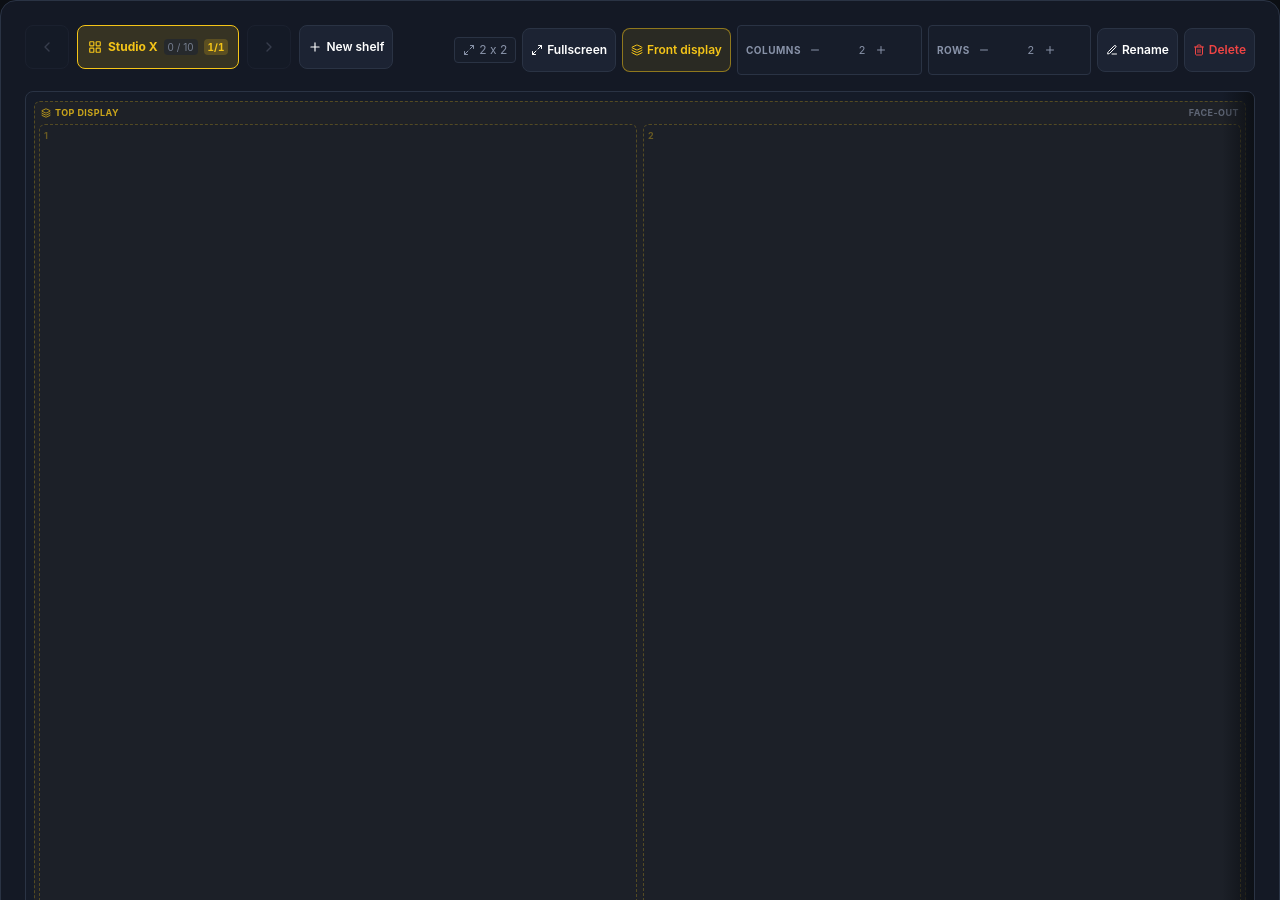
Test: ShelfLayoutEditor branches › toasts when shelf resize returns a malformed success payload
Click the button named "Add a row". click: point(1064, 50)
box: [1042,28,1086,72]
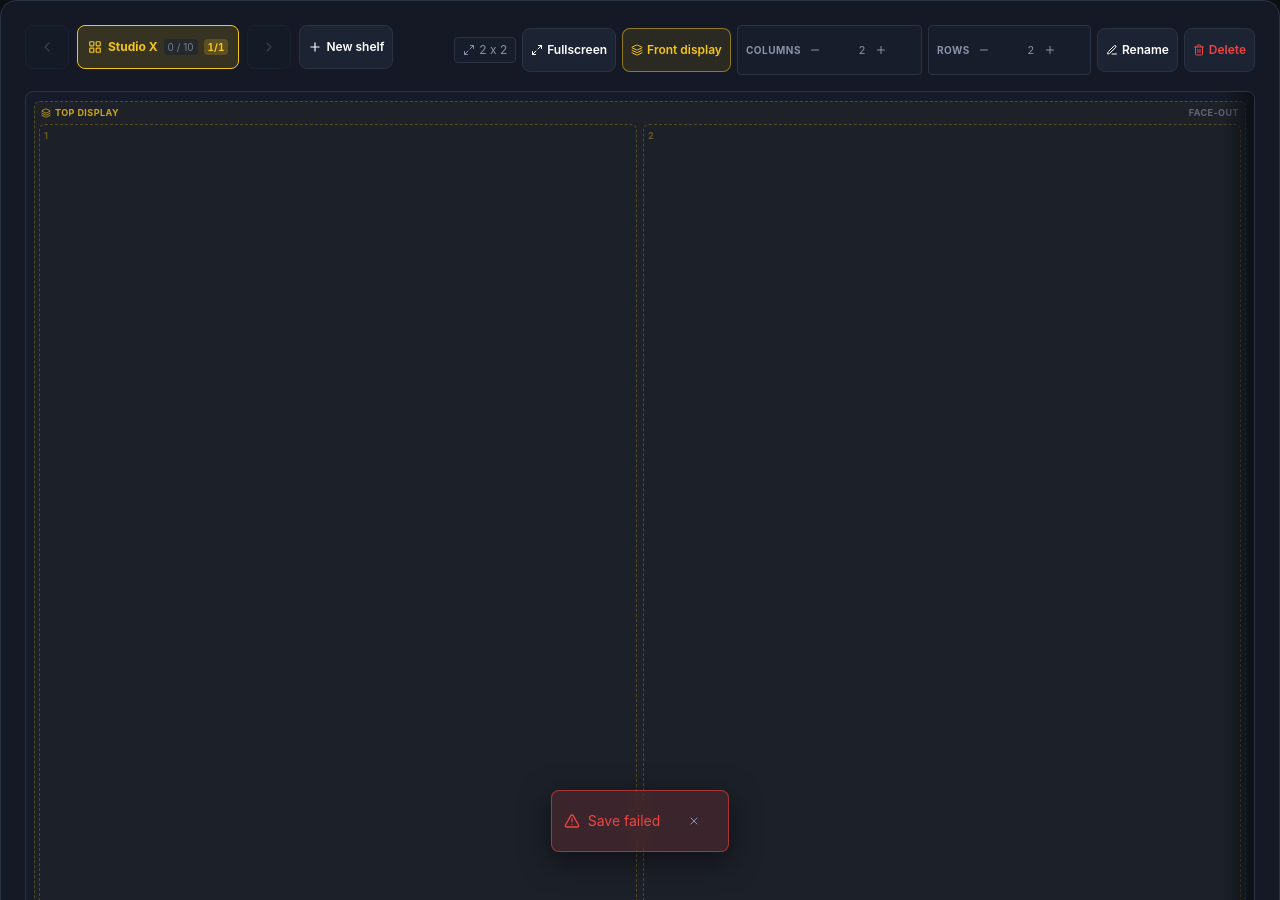
Expected: the text "Save failed" is shown, [588,811,660,831]
